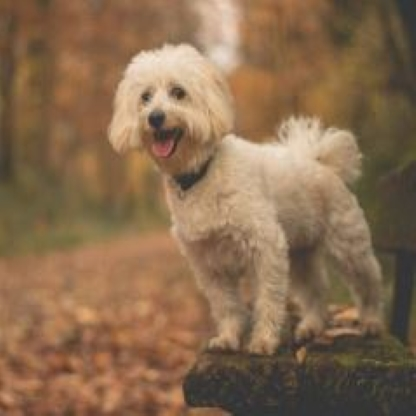maltese: (106, 44, 385, 351)
